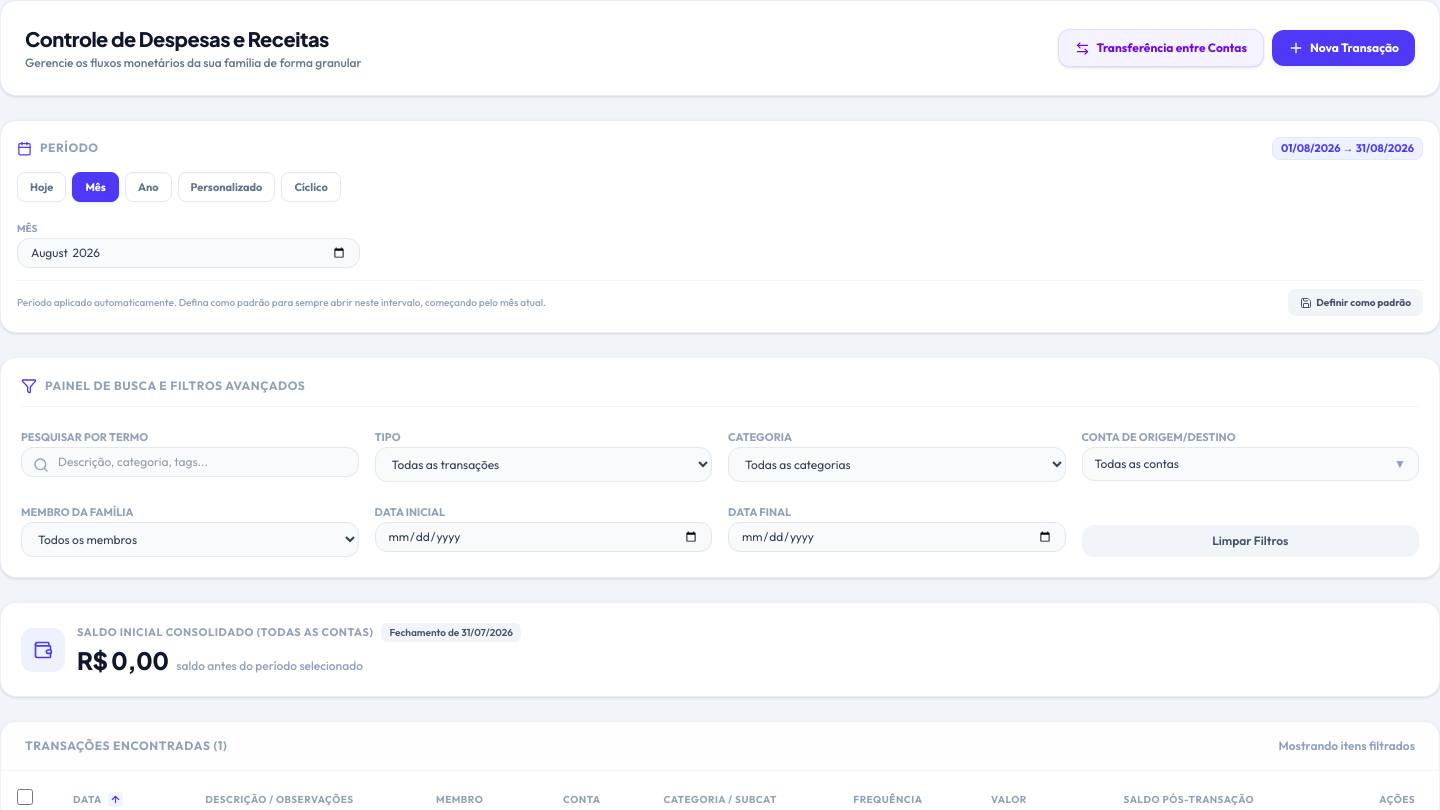
TransactionsManager › aplica o período "Ano" filtrando as transações do ano
The image size is (1440, 810).
Click the button with test id "period-mode-year".
click(148, 187)  # box [125, 172, 172, 202]
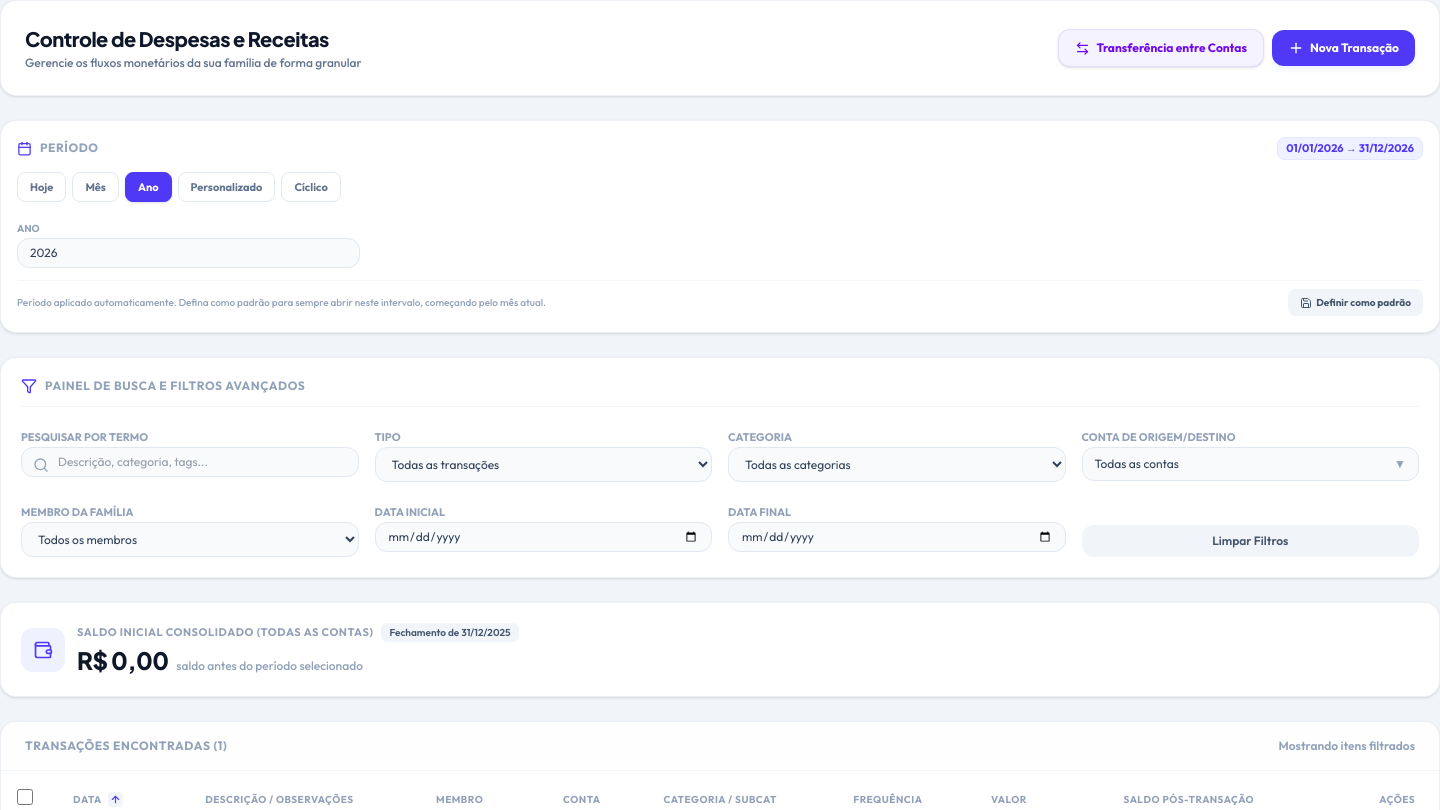
Replace the text in the number field with test id "period-year-input" with "2025" at (188, 253), box [17, 238, 360, 268]
(page scrolled)
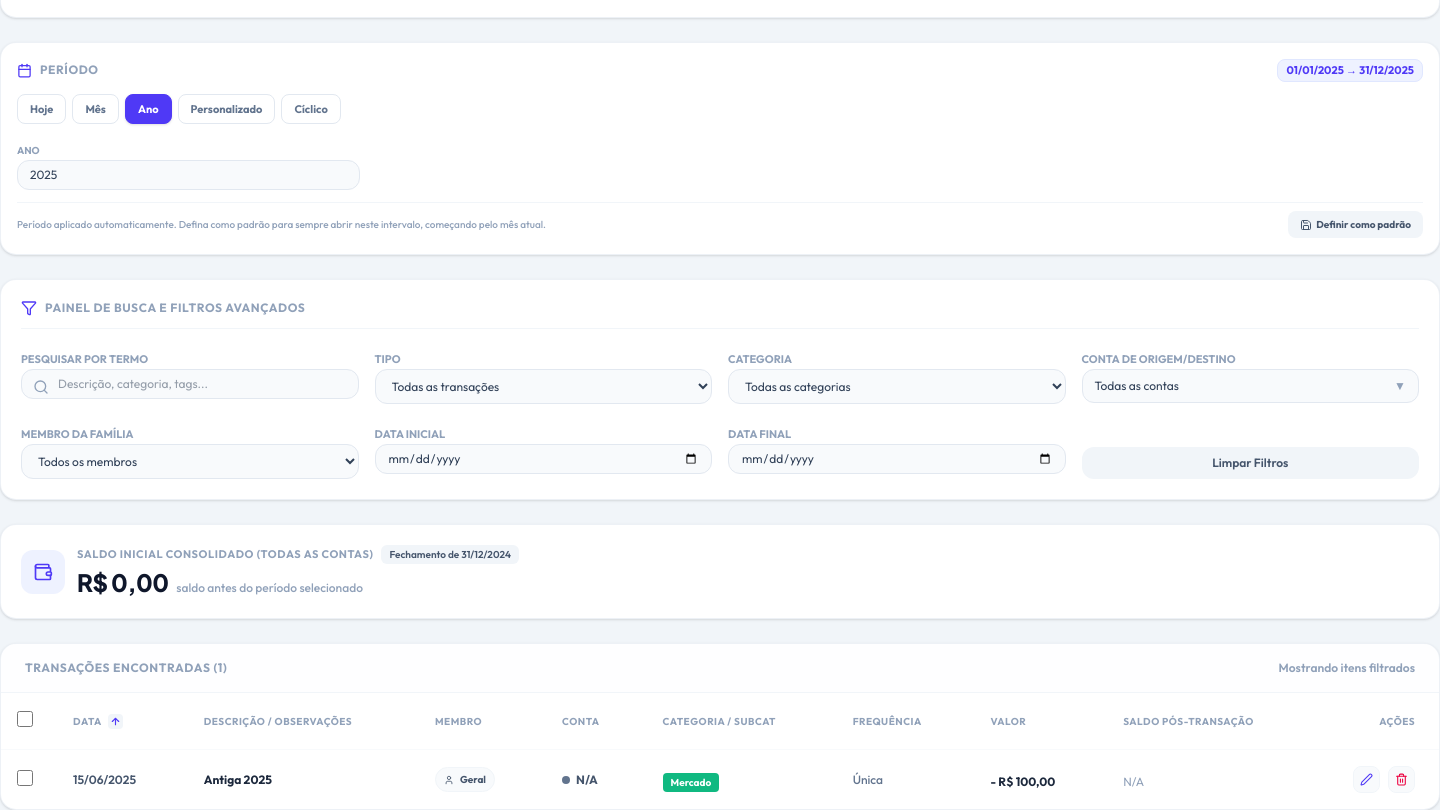
Expected: the text "Antiga 2025" is shown, [204, 772, 272, 786]
